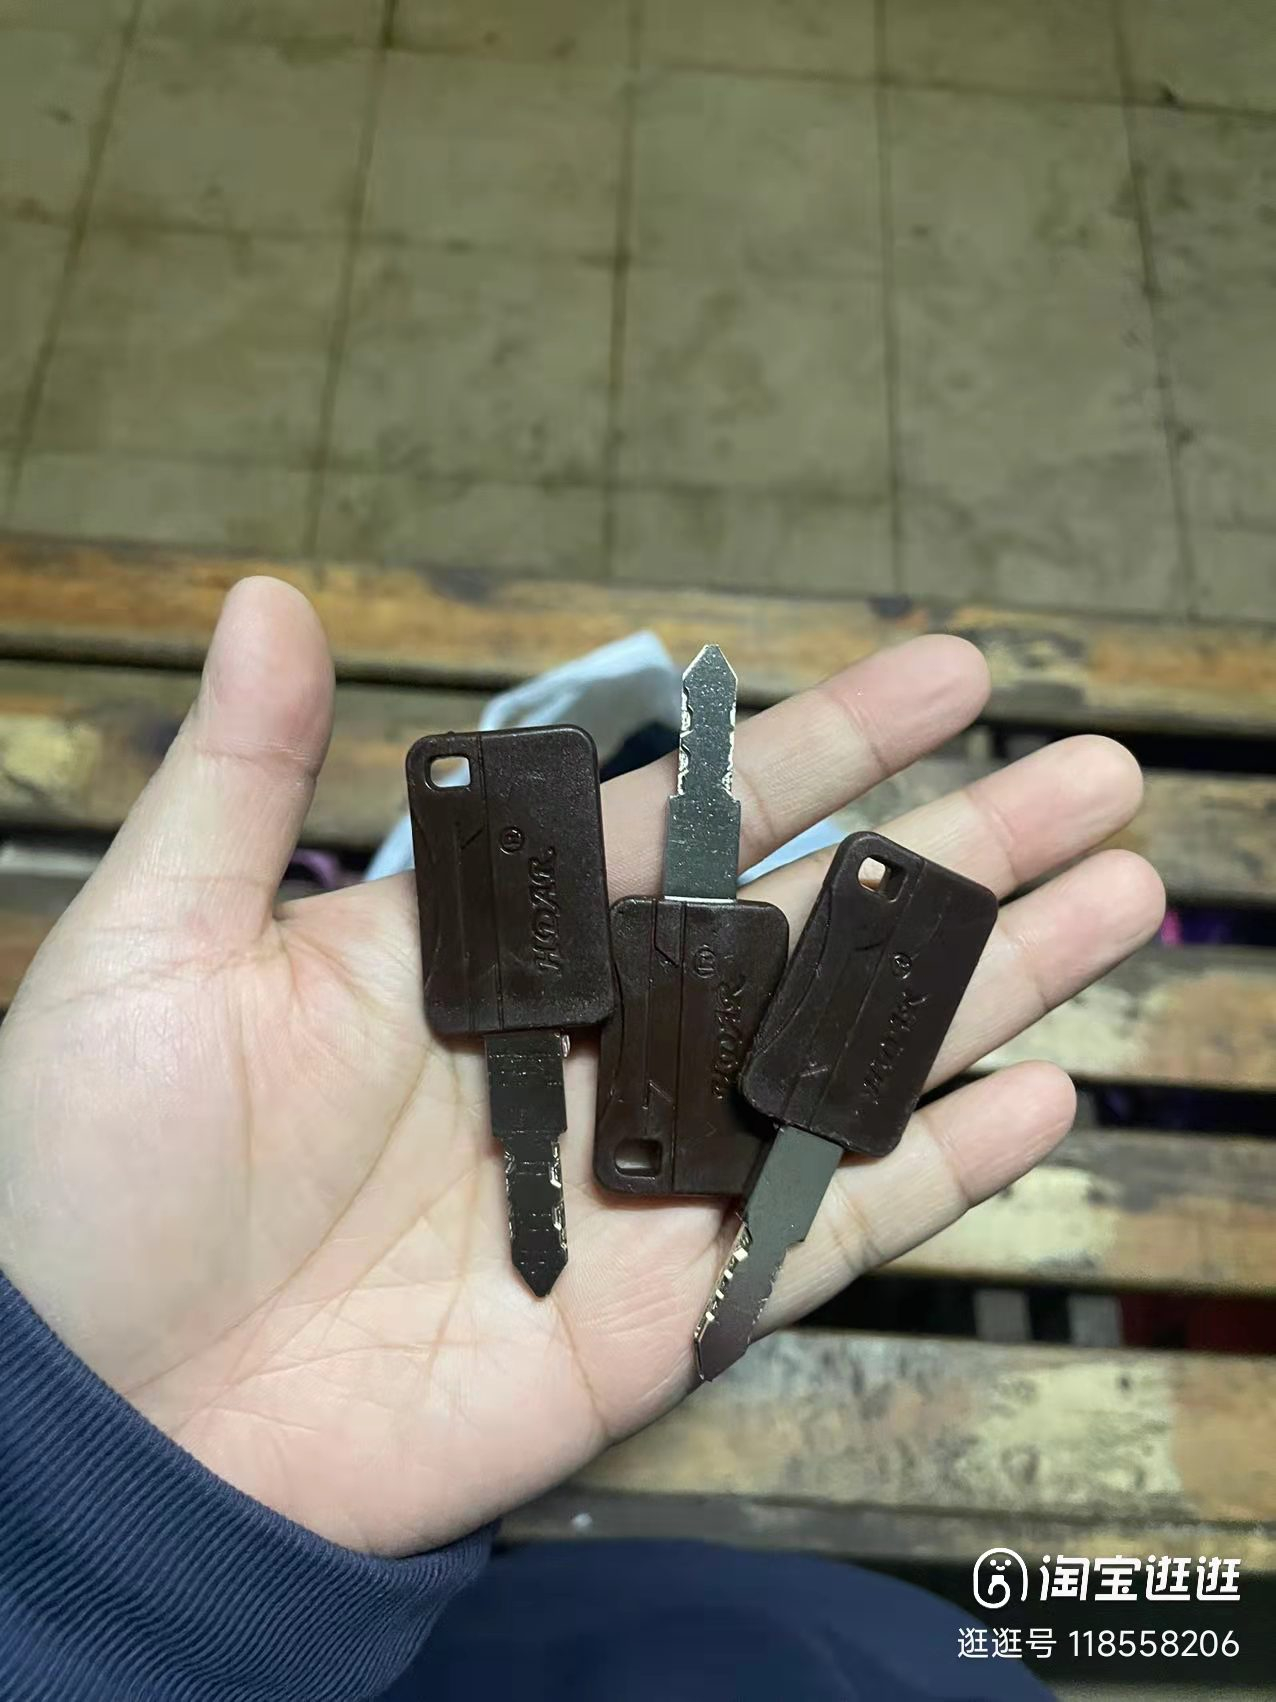key: (717, 835, 999, 1358), (587, 641, 832, 1240), (383, 717, 615, 1291)
